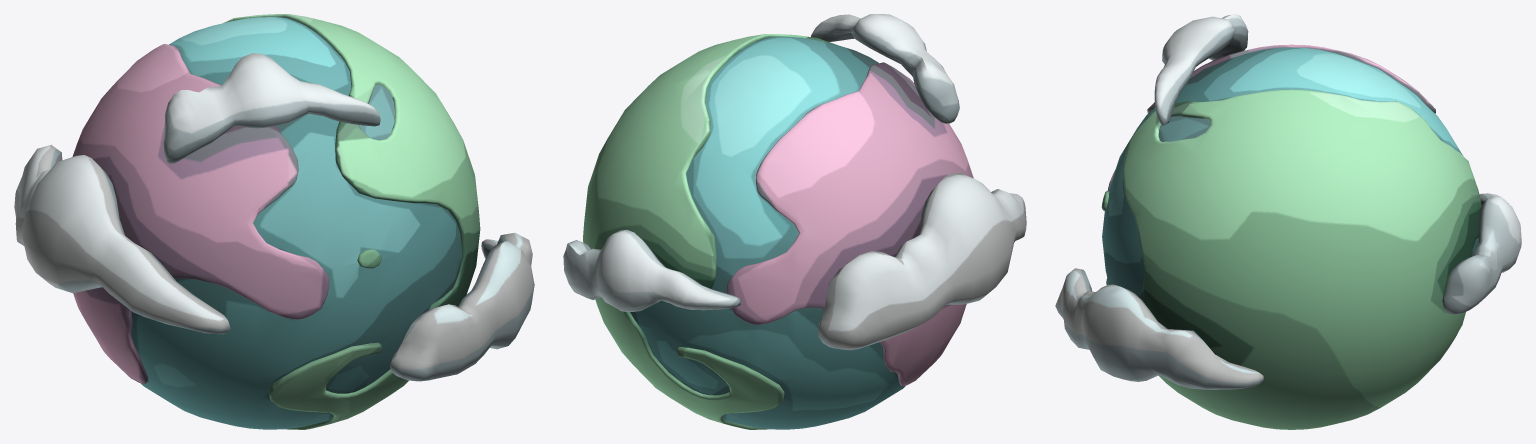
The model's file is ToonPlanet5_v2.glb.
3 views of the same model, side by side, from view 1: azimuth 30°, elevation 25°; view 2: azimuth 150°, elevation 25°; view 3: azimuth 270°, elevation 25° (orthographic). The views are drawn at different scales.
Parts seen in each view (by area): view 1: Planet01, Planet01_Cloud04, Planet01_Cloud02, Planet01_Cloud03; view 2: Planet01, Planet01_Cloud04, Planet01_Cloud01, Planet01_Cloud03; view 3: Planet01, Planet01_Cloud02, Planet01_Cloud01, Planet01_Cloud03.
Part boxes in pixels (x1=…): Planet01: x1=72, y1=14, x2=480, y2=429; Planet01_Cloud04: x1=14, y1=144, x2=230, y2=334; Planet01_Cloud02: x1=390, y1=232, x2=534, y2=381; Planet01_Cloud03: x1=163, y1=53, x2=380, y2=163; Planet01: x1=583, y1=34, x2=973, y2=429; Planet01_Cloud04: x1=818, y1=173, x2=1026, y2=350; Planet01_Cloud01: x1=563, y1=230, x2=741, y2=311; Planet01_Cloud03: x1=811, y1=14, x2=959, y2=123; Planet01: x1=1101, y1=44, x2=1481, y2=429; Planet01_Cloud02: x1=1055, y1=268, x2=1263, y2=389; Planet01_Cloud01: x1=1442, y1=193, x2=1521, y2=314; Planet01_Cloud03: x1=1154, y1=14, x2=1248, y2=125.
Bounding box in the file's own units: 11.64 × 10.07 × 11.59.
Materials: 1 (1 with a texture image).
